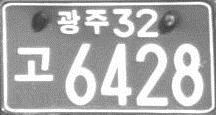2: (133, 41, 170, 108), (135, 8, 159, 38)
3: (112, 7, 134, 38)
4: (98, 40, 133, 106)
6: (63, 41, 97, 107)
8: (171, 42, 204, 109)
고: (12, 45, 54, 83)
광주_O: (56, 8, 109, 36)
